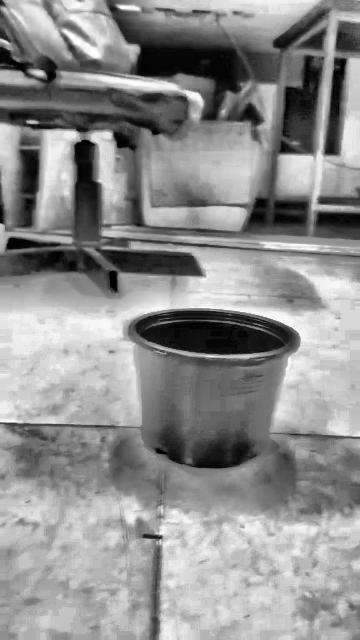pot: (129, 309, 297, 469)
